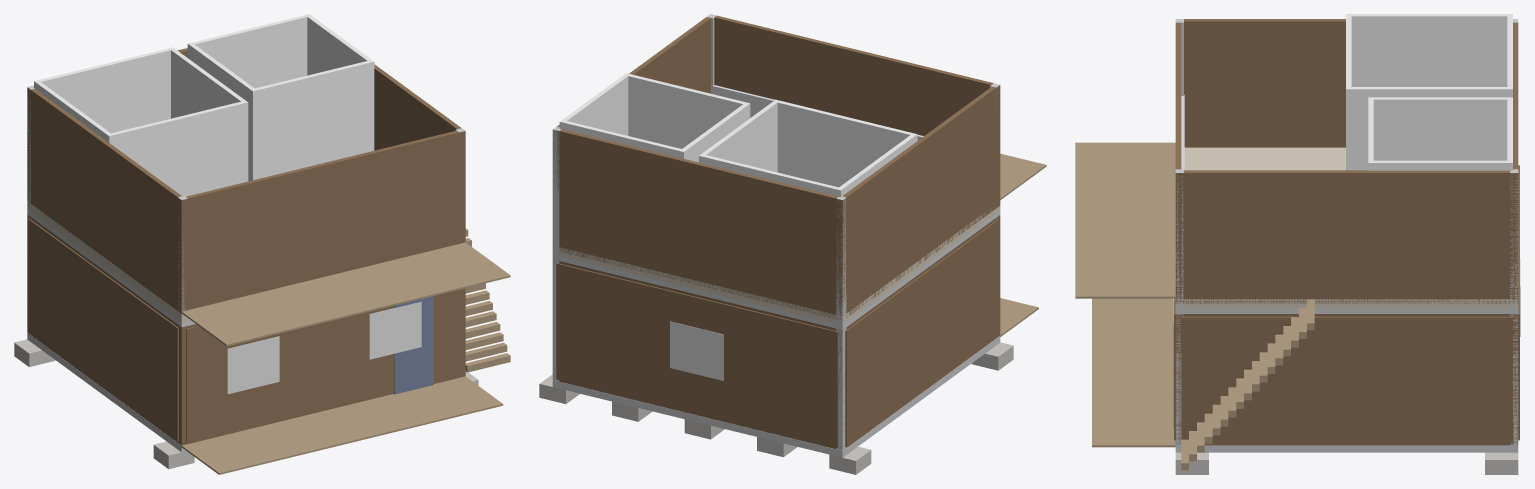
The model's file is Duplex-20-Base-DarkBrown-LOD3.glb.
3 renders of one model, left to right at view 1: azimuth 30°, elevation 25°; view 2: azimuth 150°, elevation 25°; view 3: azimuth 270°, elevation 25°, orthographic. The views are drawn at different scales.
Parts seen in each view (by area): view 1: ExteriorShellUpper, ExteriorPanelsStandard, StudyUpper, BedroomUpper, BalconyUpper, BalconyGround, WindowsStandard, StaircaseExternal, ExteriorShell, EntryDoor, FoundationBlocks, FloorUpper (+3 smaller); view 2: ExteriorShellUpper, ExteriorPanelsStandard, BedroomUpper, StudyUpper, FloorUpper, VerticalStructure, FoundationBlocks, BaseFrame, ExteriorShell, WindowsStandard, TopFrame, BalconyUpper (+2 smaller); view 3: ExteriorShellUpper, ExteriorPanelsStandard, BalconyUpper, BedroomUpper, BalconyGround, StudyUpper, FloorUpper, StaircaseExternal, ExteriorShell, VerticalStructure, BaseFrame, TopFrame (+1 smaller).
Part boxes in pixels (x1,y1,x2,y2): ExteriorShellUpper: [27, 48, 465, 315]; ExteriorPanelsStandard: [28, 218, 461, 442]; StudyUpper: [187, 14, 374, 181]; BedroomUpper: [34, 47, 248, 196]; BalconyUpper: [181, 242, 510, 346]; BalconyGround: [181, 376, 503, 474]; WindowsStandard: [227, 301, 421, 394]; StaircaseExternal: [465, 228, 510, 372]; ExteriorShell: [27, 214, 465, 445]; EntryDoor: [394, 296, 433, 394]; FoundationBlocks: [14, 339, 478, 469]; FloorUpper: [27, 201, 190, 322]; ExteriorShellUpper: [553, 15, 1000, 320]; ExteriorPanelsStandard: [556, 219, 999, 447]; BedroomUpper: [699, 99, 917, 197]; StudyUpper: [559, 73, 750, 162]; FloorUpper: [559, 206, 1000, 324]; VerticalStructure: [552, 14, 999, 450]; FoundationBlocks: [539, 342, 1013, 474]; BaseFrame: [552, 336, 1000, 457]; ExteriorShell: [559, 215, 1000, 448]; WindowsStandard: [670, 321, 723, 380]; TopFrame: [559, 210, 1000, 329]; BalconyUpper: [1000, 153, 1046, 199]; ExteriorShellUpper: [1175, 19, 1518, 303]; ExteriorPanelsStandard: [1174, 165, 1519, 443]; BalconyUpper: [1075, 142, 1175, 298]; BedroomUpper: [1346, 14, 1512, 170]; BalconyGround: [1092, 298, 1175, 447]; StudyUpper: [1368, 97, 1512, 170]; FloorUpper: [1176, 147, 1518, 308]; StaircaseExternal: [1181, 299, 1314, 470]; ExteriorShell: [1175, 314, 1518, 445]; VerticalStructure: [1175, 19, 1518, 445]; BaseFrame: [1175, 445, 1518, 452]; TopFrame: [1175, 309, 1518, 313].
Size of the model in its own units: 7.94 by 6 by 8.
